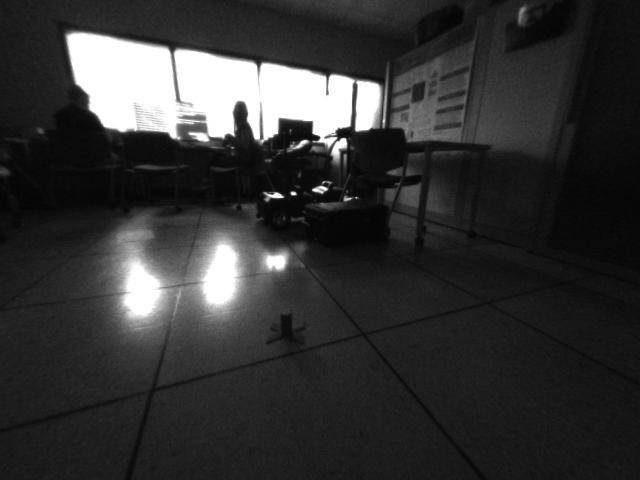x: (256, 306, 307, 350)
